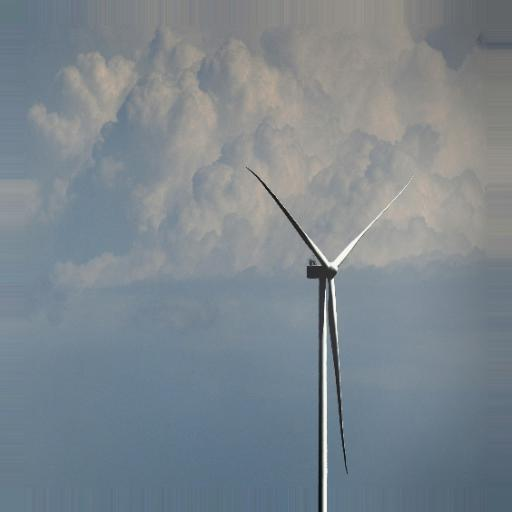wind turbine: (245, 165, 417, 489)
